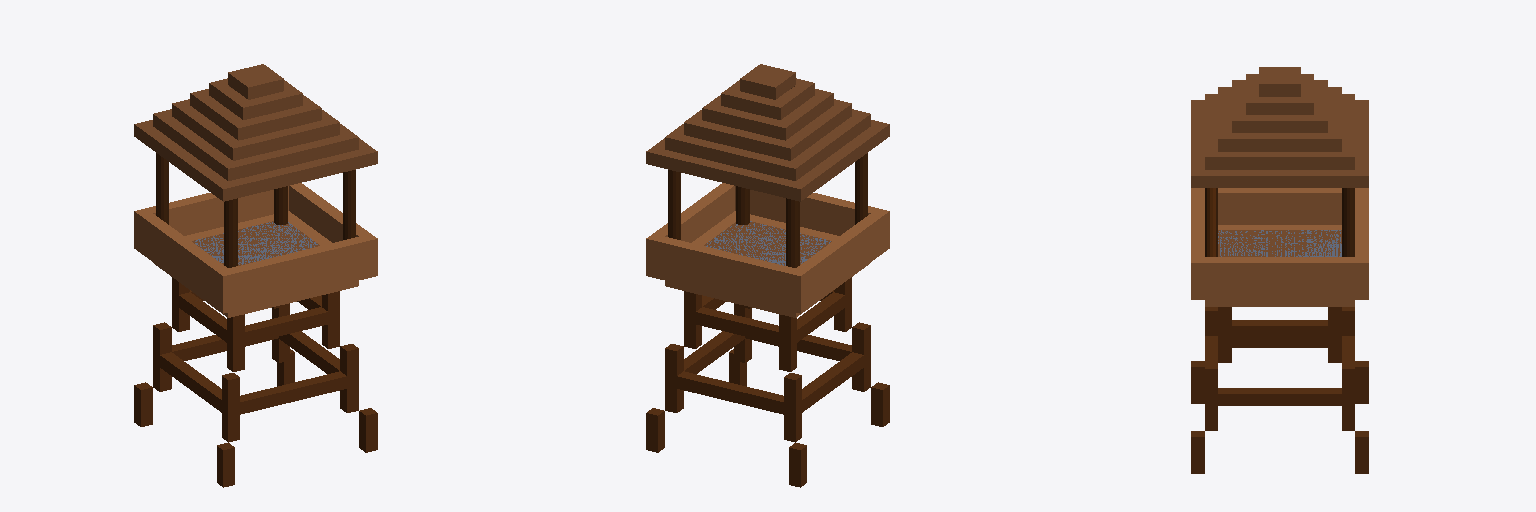
3 renders of one model, left to right at view 1: azimuth 30°, elevation 25°; view 2: azimuth 150°, elevation 25°; view 3: azimuth 270°, elevation 25°, orthographic.
Visible parts, largest first — view 1: floor, wall, middle, top, tube, bot, cube; view 2: floor, wall, middle, top, tube, bot, cube; view 3: floor, wall, middle, top, bot, tube, cube.
Part boxes in pixels (x1,y1,x2,y2): floor: (134, 78, 377, 317); wall: (134, 183, 377, 313); middle: (153, 303, 358, 442); top: (172, 277, 339, 371); tube: (156, 153, 355, 267); bot: (134, 349, 377, 487); cube: (228, 64, 283, 99); floor: (646, 78, 889, 317); wall: (646, 183, 889, 313); middle: (665, 303, 870, 442); top: (684, 277, 851, 371); tube: (668, 153, 867, 267); bot: (646, 349, 889, 487); cube: (740, 64, 795, 99); floor: (1191, 74, 1368, 306); wall: (1191, 188, 1368, 299); middle: (1205, 307, 1354, 430); top: (1218, 307, 1341, 362); bot: (1191, 361, 1368, 473); tube: (1205, 188, 1354, 256); cube: (1259, 67, 1300, 96).
Bounding box in the file's own units: 0.8125 × 1.81 × 0.8125.
3 materials, 3 textured.